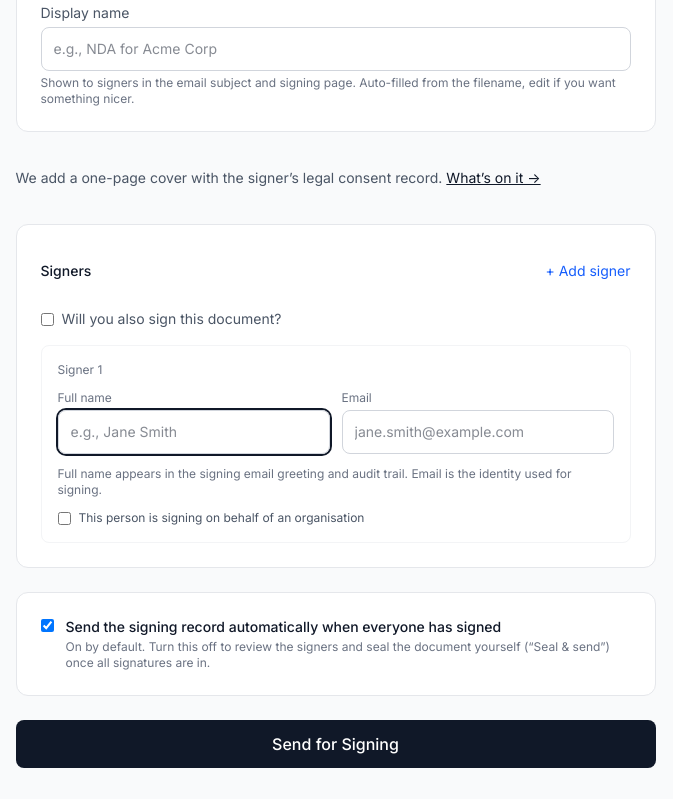
Test case: CreateEnvelopePage — QA fixes (Barry 2026-06-18) › unchecking removes ONLY the creator row — never wipes a typed signer that shares the email (Issue 2)
(page scrolled)
Type "creator@example.com" into the field with placeholder "jane.smith@example.com" at (478,432), box x1=342 y1=410 x2=614 y2=454
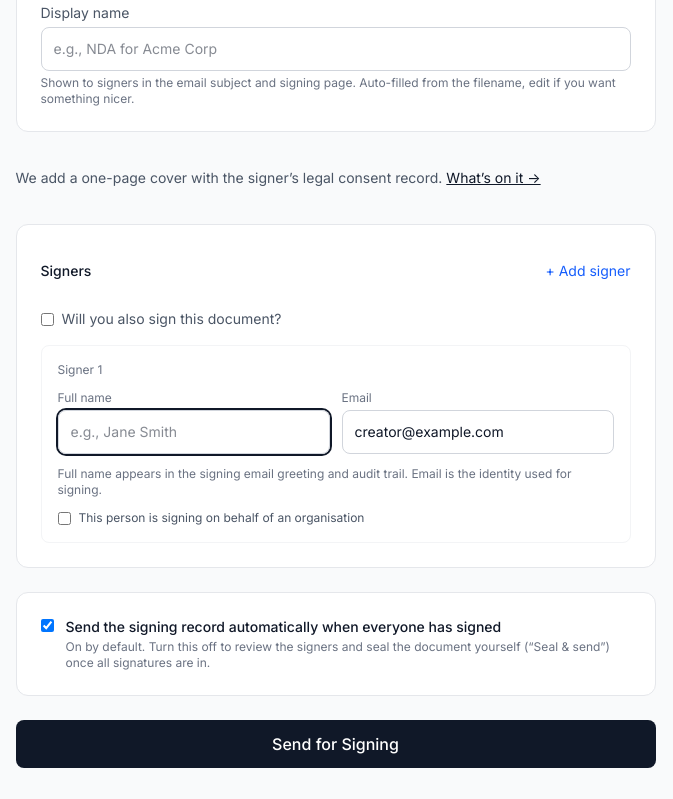
Click the checkbox labelled "Will you also sign this document?" at (47,319), box x1=40 y1=312 x2=54 y2=326
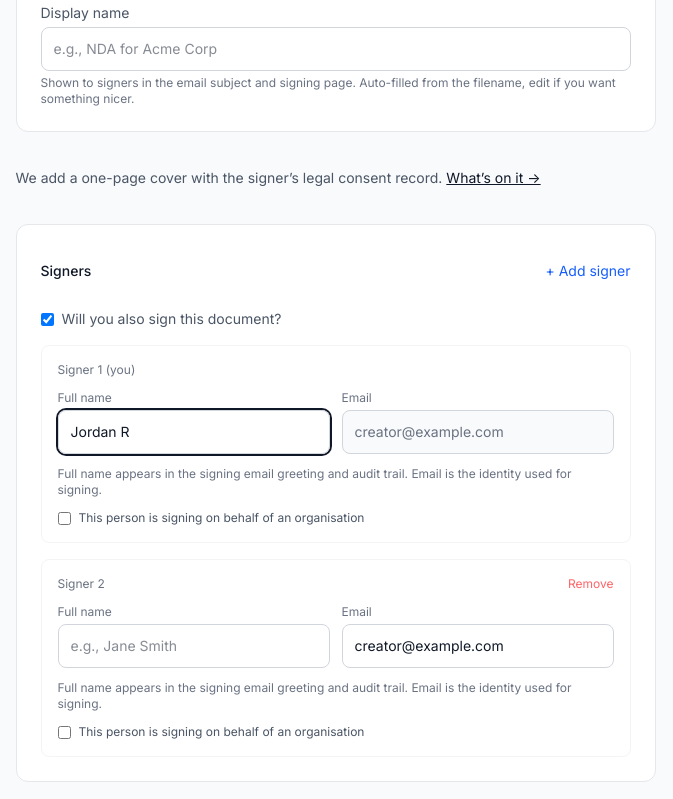
Click the checkbox labelled "Will you also sign this document?" at (47,319), box x1=40 y1=312 x2=54 y2=326
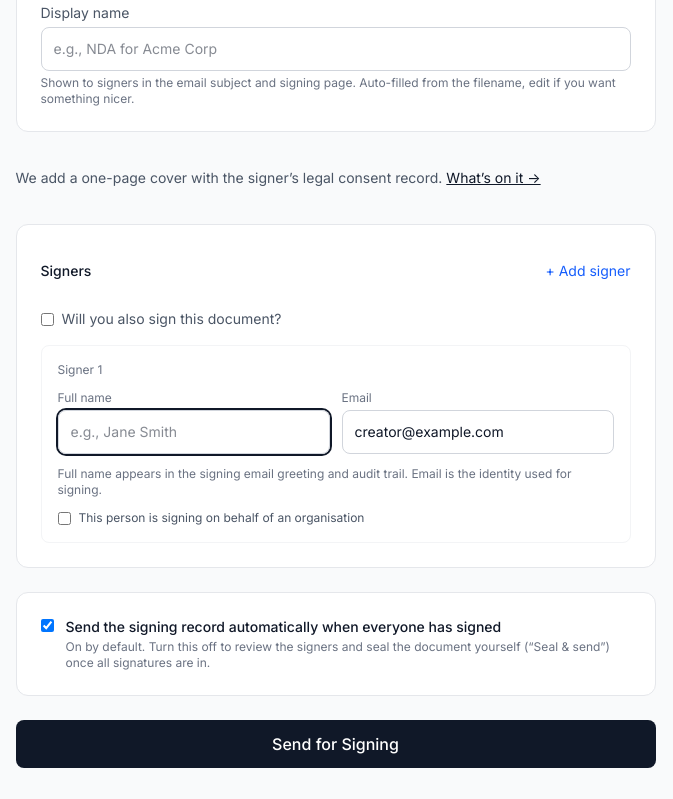
expect the number of fields with placeholder "jane.smith@example.com" is 1: met, box x1=342 y1=410 x2=614 y2=454
